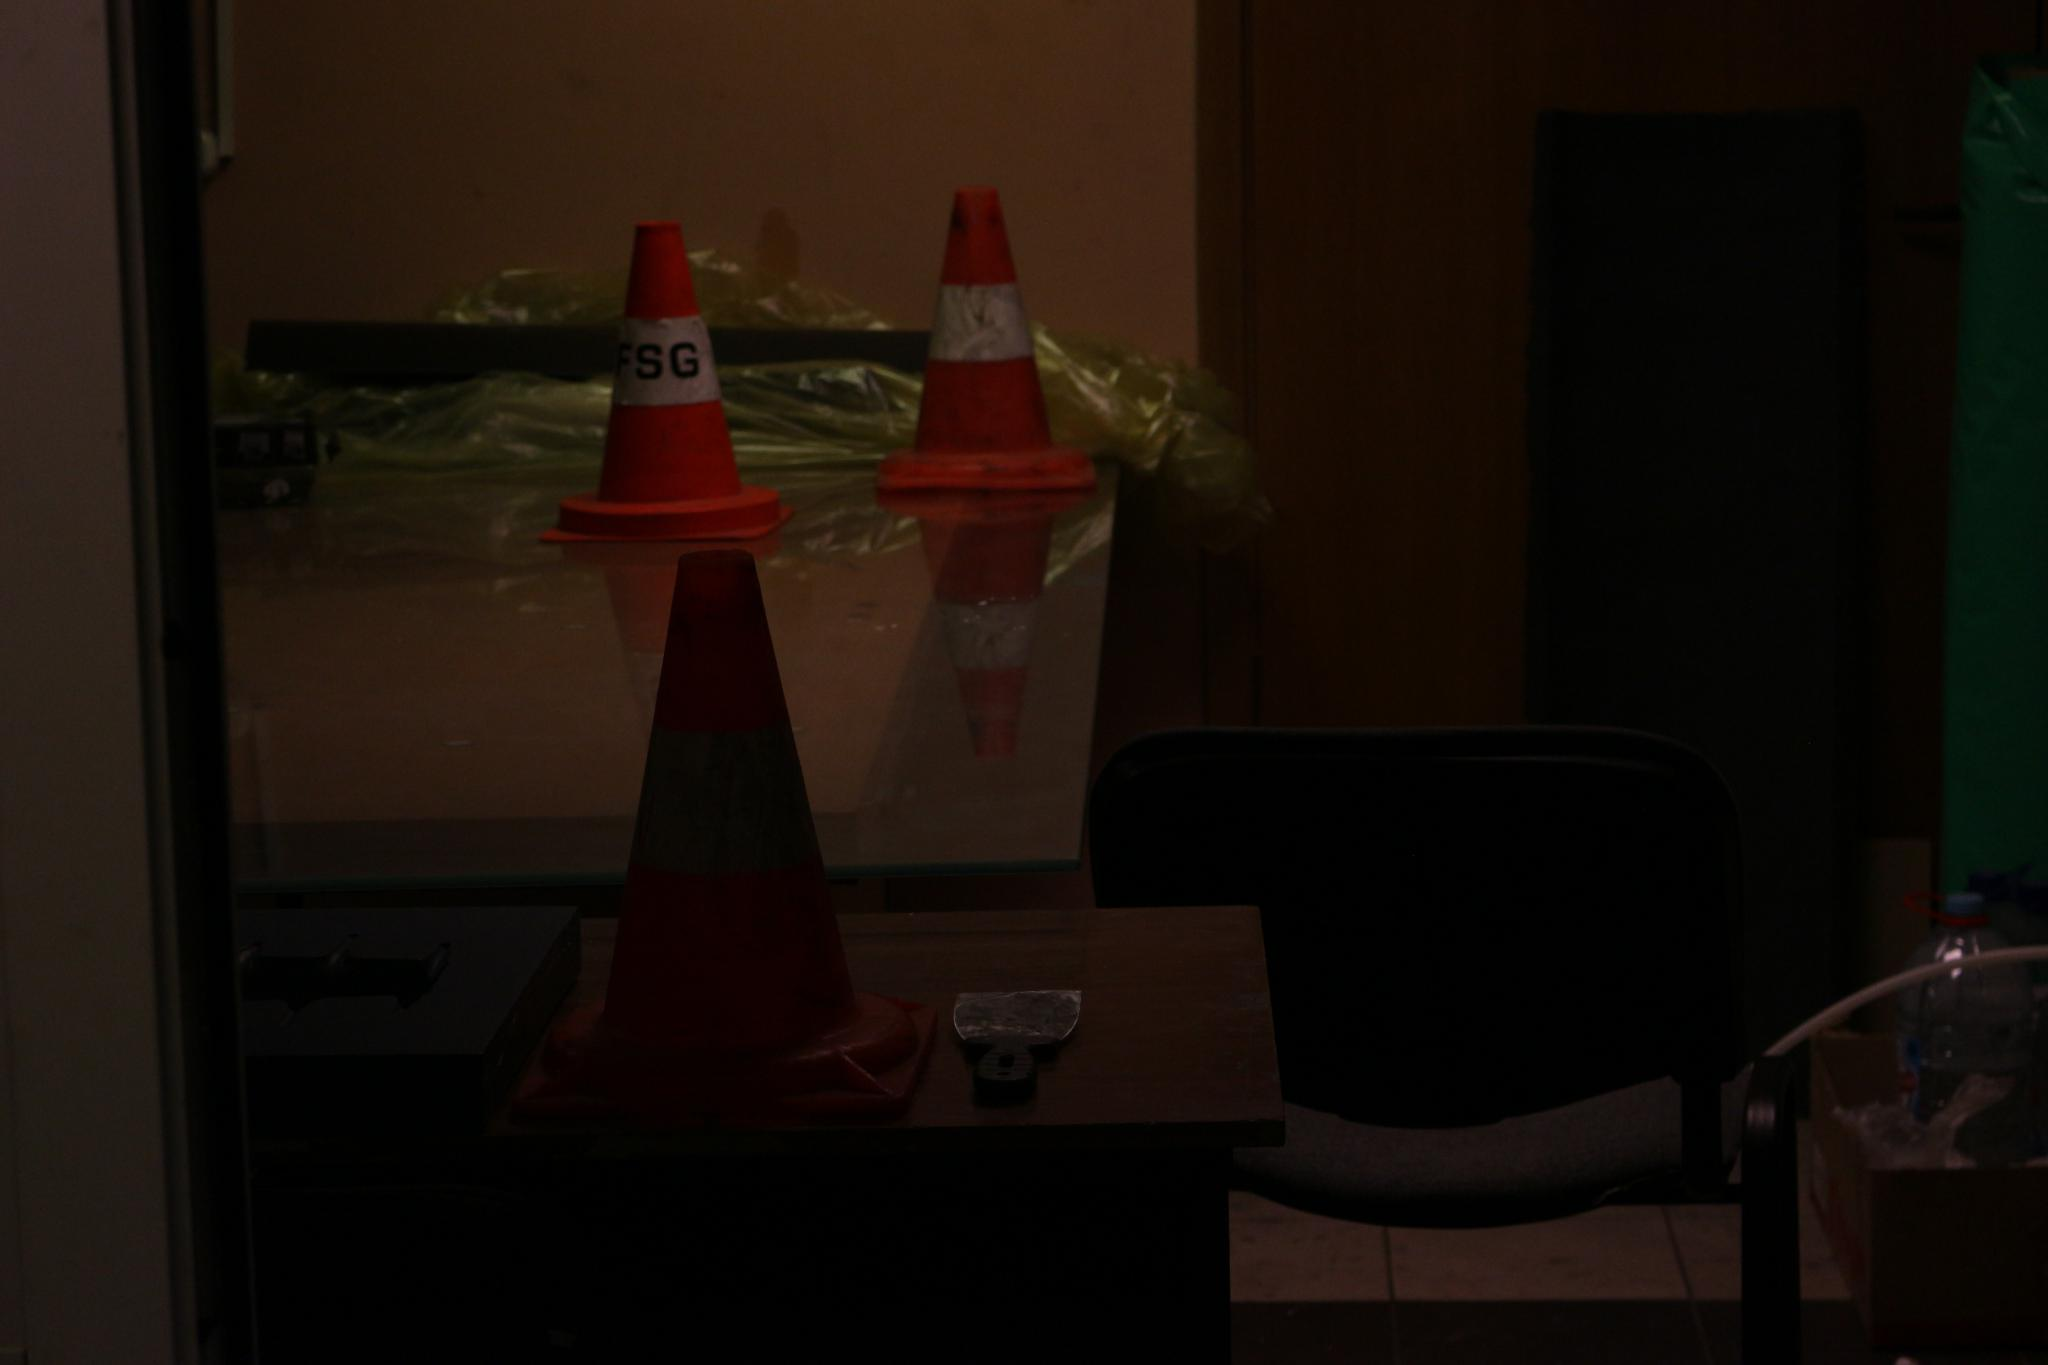Orange_Cone: (557, 538, 924, 1112), (542, 207, 798, 548), (868, 177, 1101, 504)
